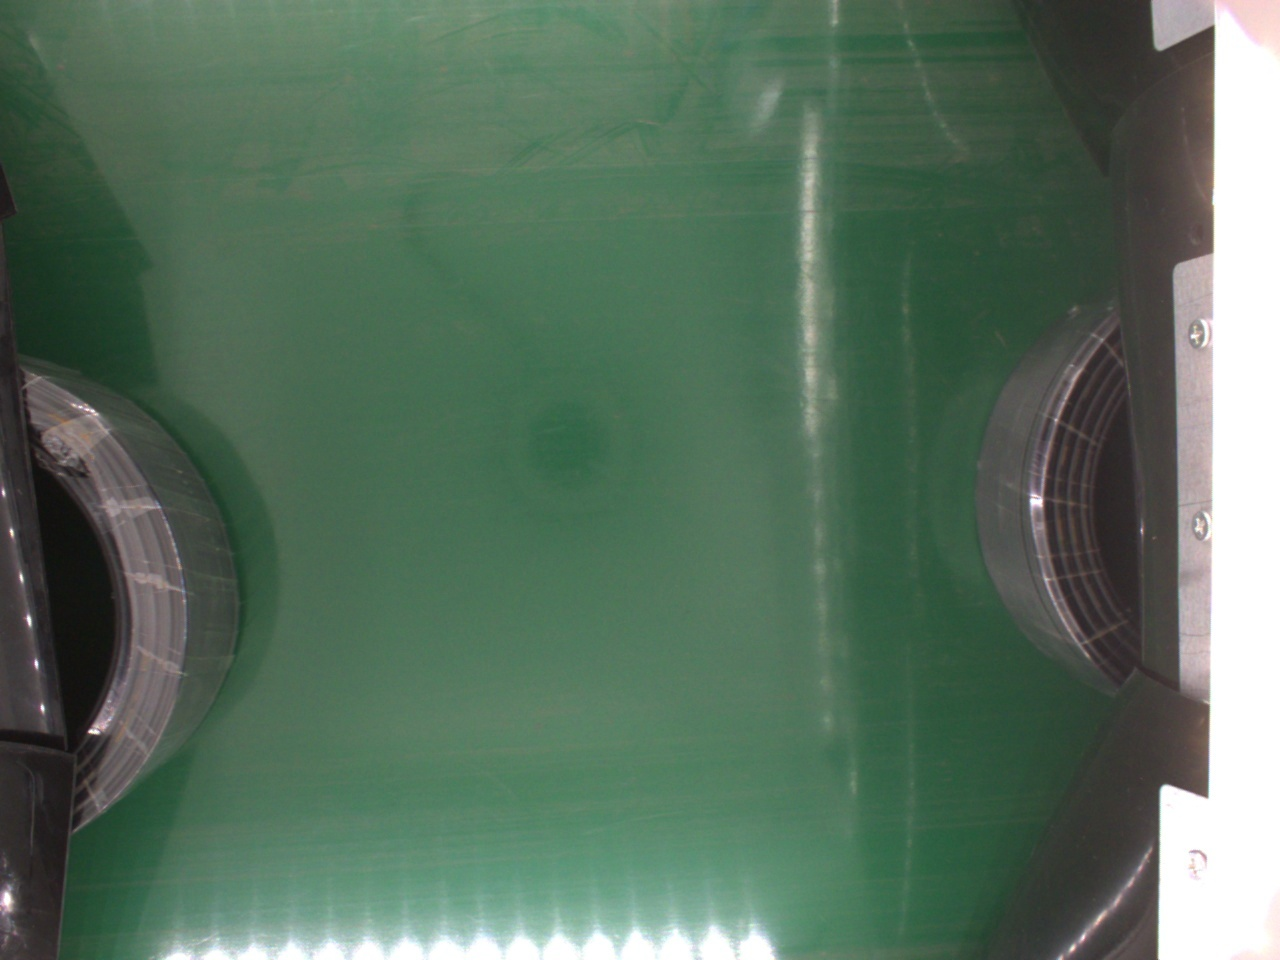black: (16, 355, 239, 840), (969, 295, 1150, 691)
